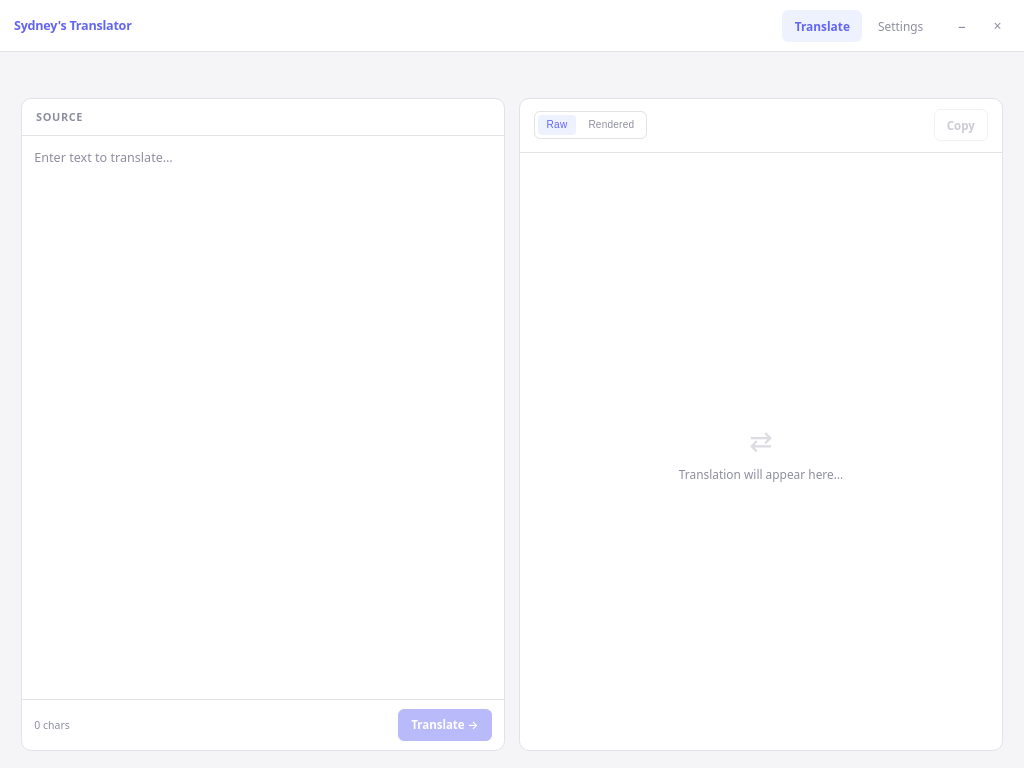
Test: shows a validation error before sending when required settings are missing
Type "hello" into the text box named "Source text".
click(263, 417); type("hello")  # box [34, 148, 492, 687]
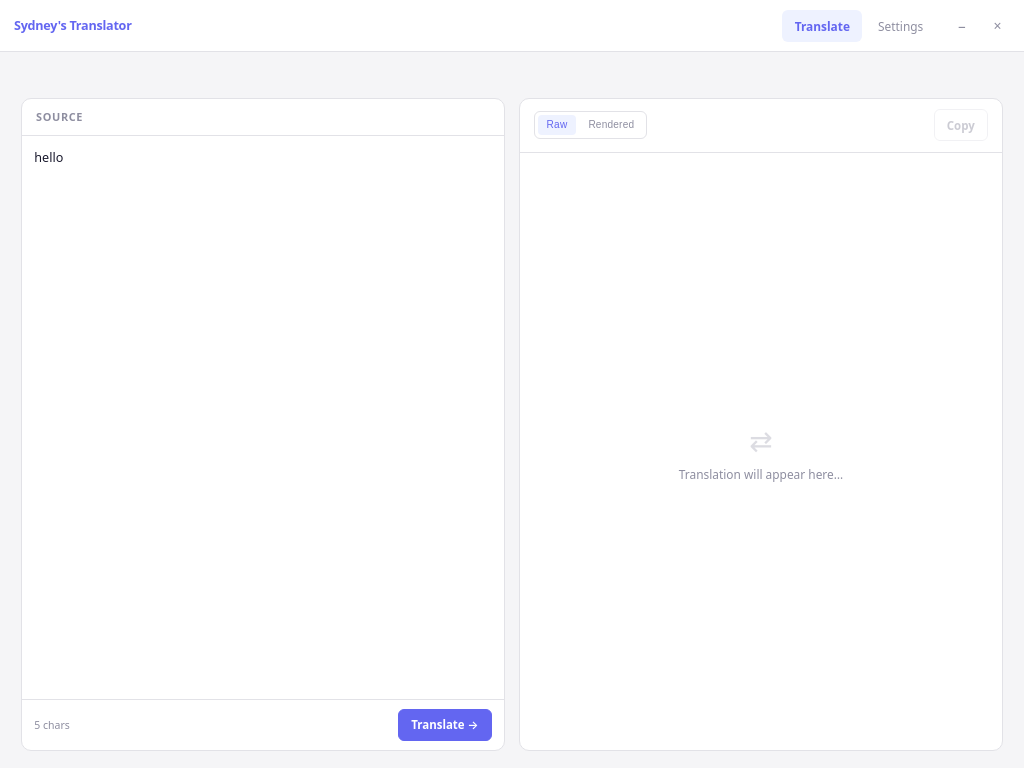
Click the button "Translate →".
click(445, 725)  # box [398, 709, 492, 741]
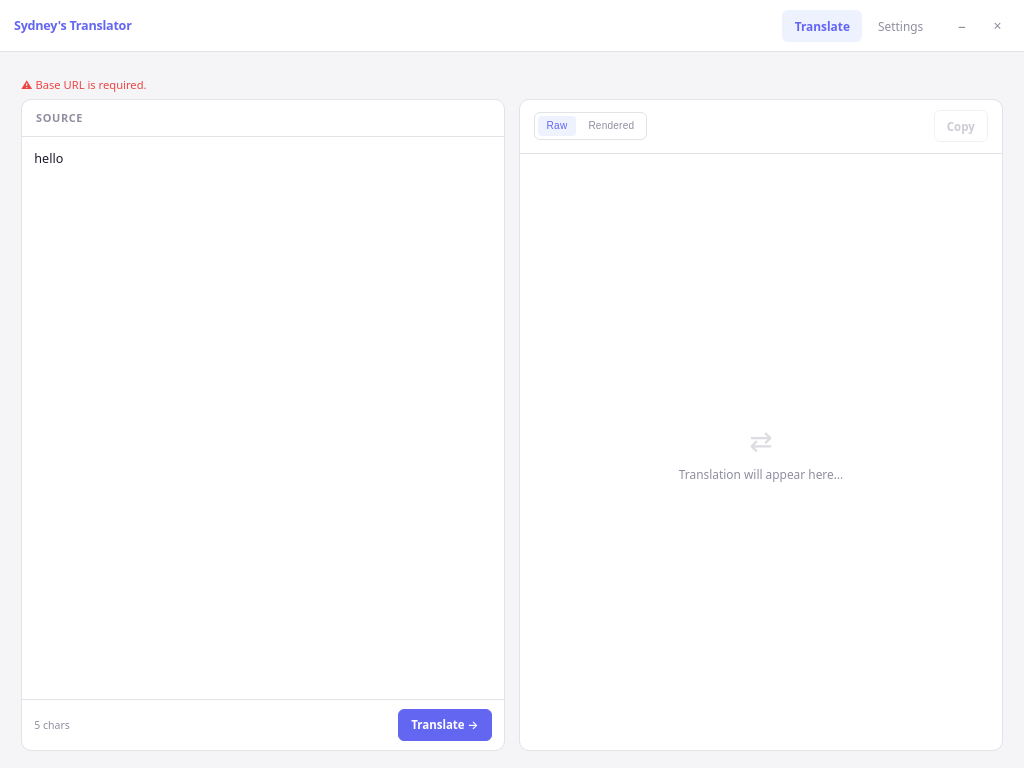
Expected: the text "⚠ Base URL is required." is shown, [21, 76, 147, 92]
